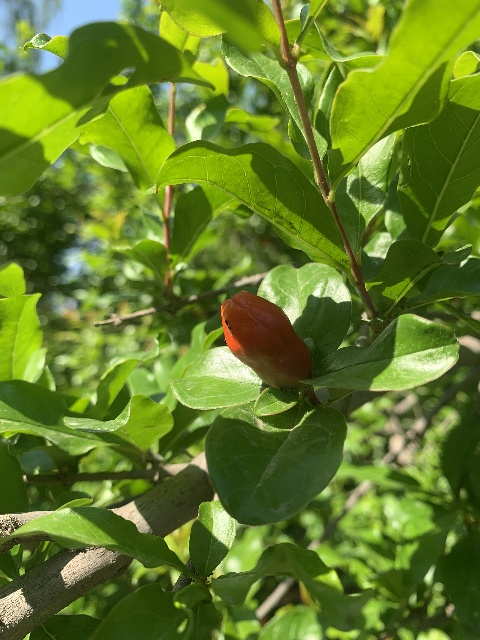bud: (220, 290, 312, 387)
